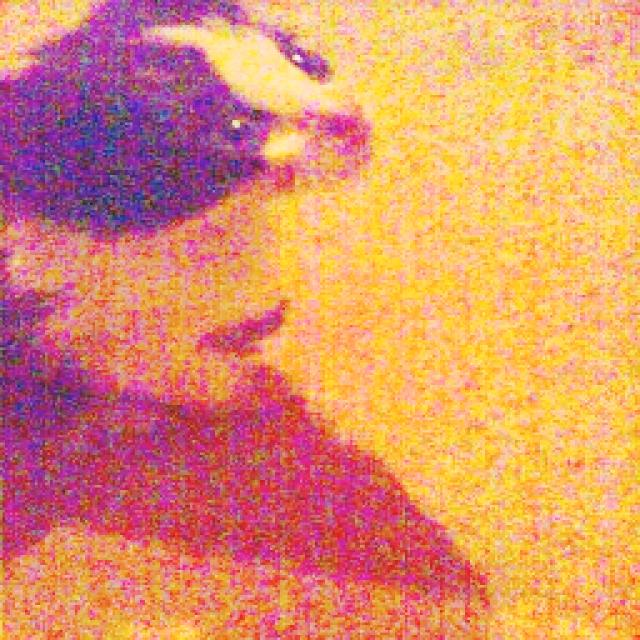cat: (0, 0, 372, 426)
